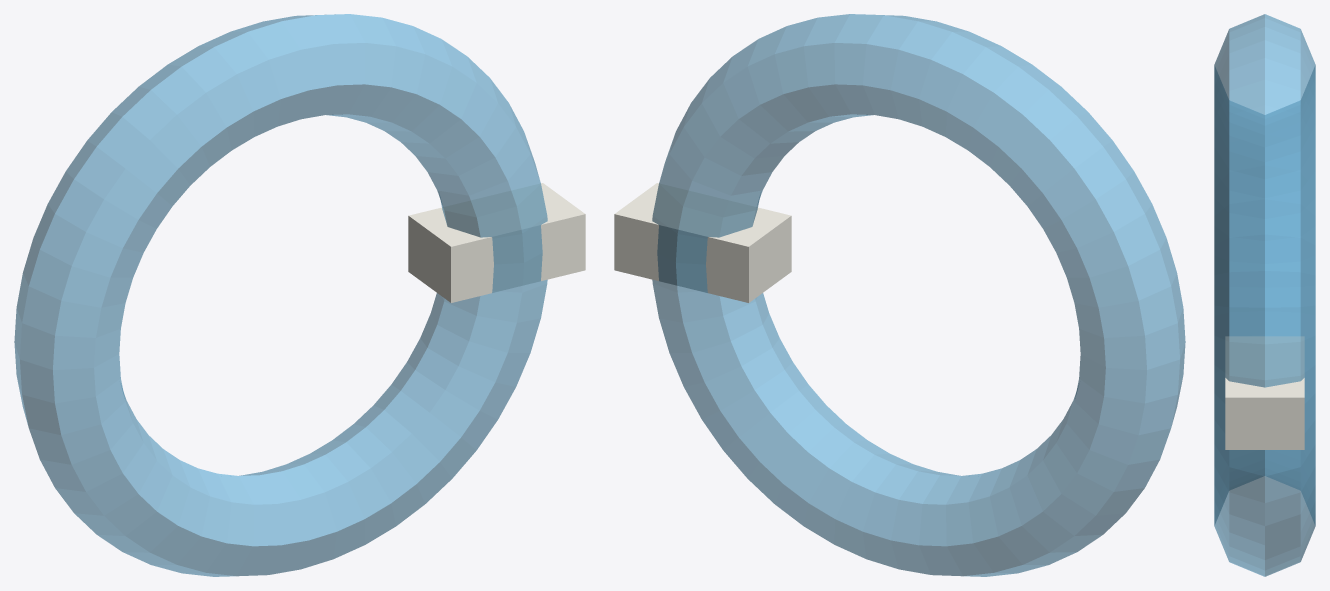
File: float_band_blue_white_v1.glb
3 renders of one model, left to right at view 1: azimuth 30°, elevation 25°; view 2: azimuth 150°, elevation 25°; view 3: azimuth 270°, elevation 25°, orthographic. The views are drawn at different scales.
Parts seen in each view (by area): view 1: float_band_main_ring, white_band_patch_0, white_band_patch_1; view 2: float_band_main_ring, white_band_patch_0, white_band_patch_1; view 3: float_band_main_ring, white_band_patch_0, white_band_patch_1.
Part boxes in pixels (<box>): float_band_main_ring: <box>14,14,547,576</box>; white_band_patch_0: <box>408,183,585,302</box>; white_band_patch_1: <box>408,183,585,301</box>; float_band_main_ring: <box>652,14,1185,576</box>; white_band_patch_0: <box>614,183,791,302</box>; white_band_patch_1: <box>614,184,790,302</box>; float_band_main_ring: <box>1214,14,1315,576</box>; white_band_patch_0: <box>1225,336,1304,449</box>; white_band_patch_1: <box>1225,346,1304,449</box>.
Size of the model in its own units: 0.405 by 0.39 by 0.07.
